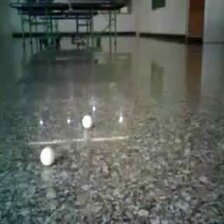w: (40, 147, 55, 165), (81, 114, 93, 130)
